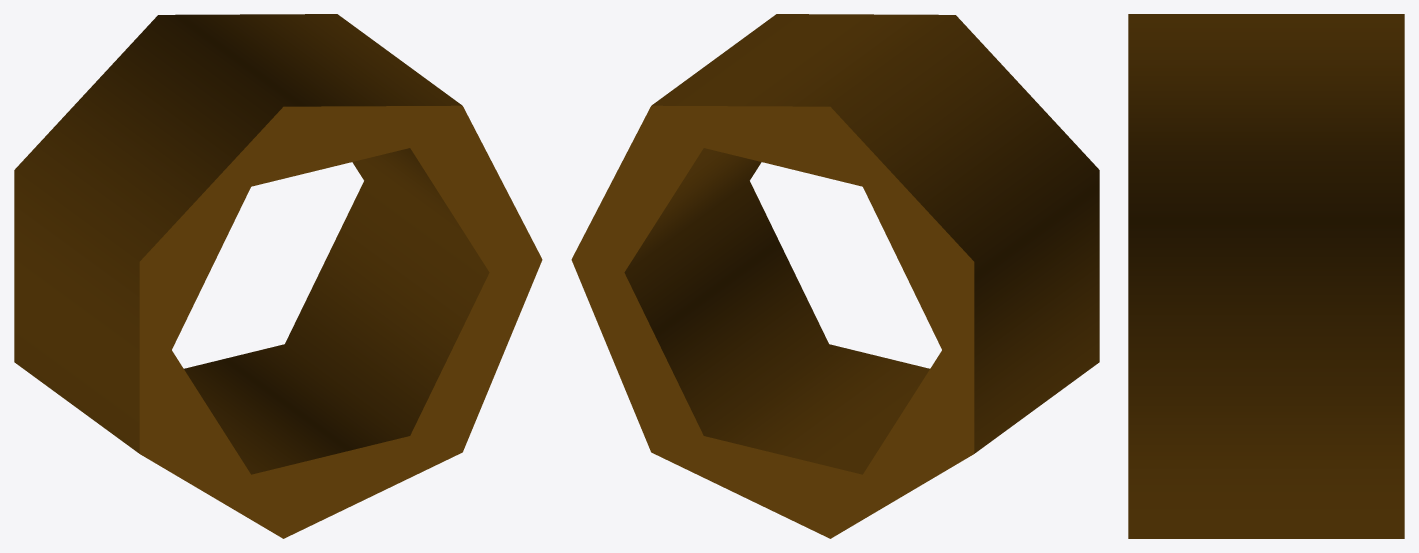
File: Copie de Piece laiton D 1.5_Laiton _X2_00d8_X0_6^Copie de ASS pilier 2_Horloge Comtoise Verge - Sonnerie.obj
3 renders of one model, left to right at view 1: azimuth 30°, elevation 25°; view 2: azimuth 150°, elevation 25°; view 3: azimuth 270°, elevation 25°, orthographic. The views are drawn at different scales.
Parts seen in each view (by area): view 1: Face_1, Face_3, Face_4; view 2: Face_1, Face_2, Face_4; view 3: Face_1.
Boxes of the visible parts, x1,y1,x2,y2 form: Face_1: [14, 14, 461, 453]; Face_3: [139, 105, 542, 538]; Face_4: [184, 148, 489, 474]; Face_1: [652, 14, 1099, 453]; Face_2: [571, 105, 974, 538]; Face_4: [624, 148, 929, 474]; Face_1: [1128, 14, 1404, 538].
Size of the model in its own units: 0.0076 by 0.0078 by 0.0041.
